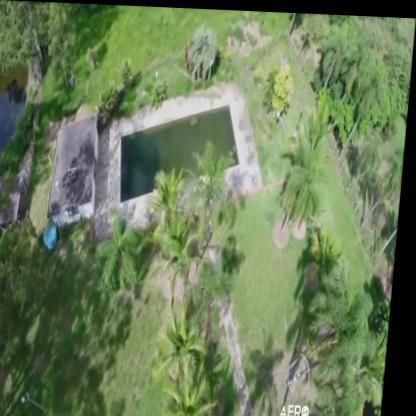agua: (135, 111, 229, 200)
